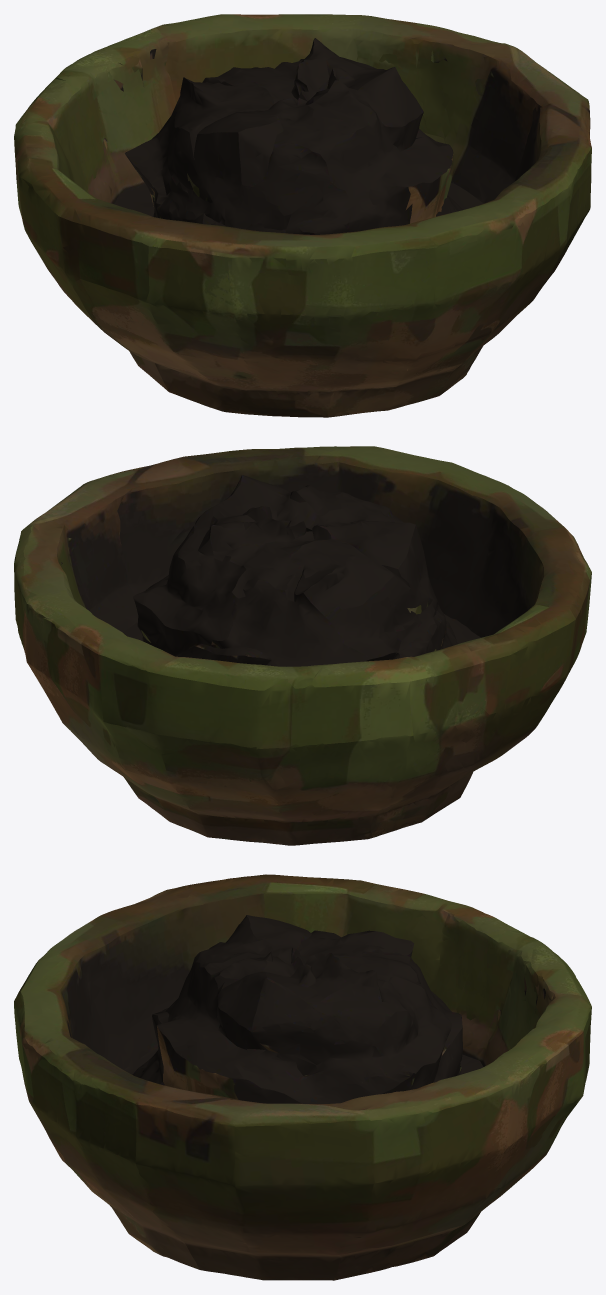
File: food_burnt.glb
The picture shows the model from 3 angles, top to bottom: view 1: azimuth 30°, elevation 25°; view 2: azimuth 150°, elevation 25°; view 3: azimuth 270°, elevation 25°; orthographic projection.
Visible parts, largest first — view 1: food_burnt; view 2: food_burnt; view 3: food_burnt.
Boxes of the visible parts, bbox=[...] form: food_burnt: bbox=[14, 14, 591, 417]; food_burnt: bbox=[14, 446, 591, 845]; food_burnt: bbox=[14, 874, 591, 1280].
Size of the model in its own units: 0.2 by 0.1021 by 0.197.
Materials: 1 (1 with a texture image).
